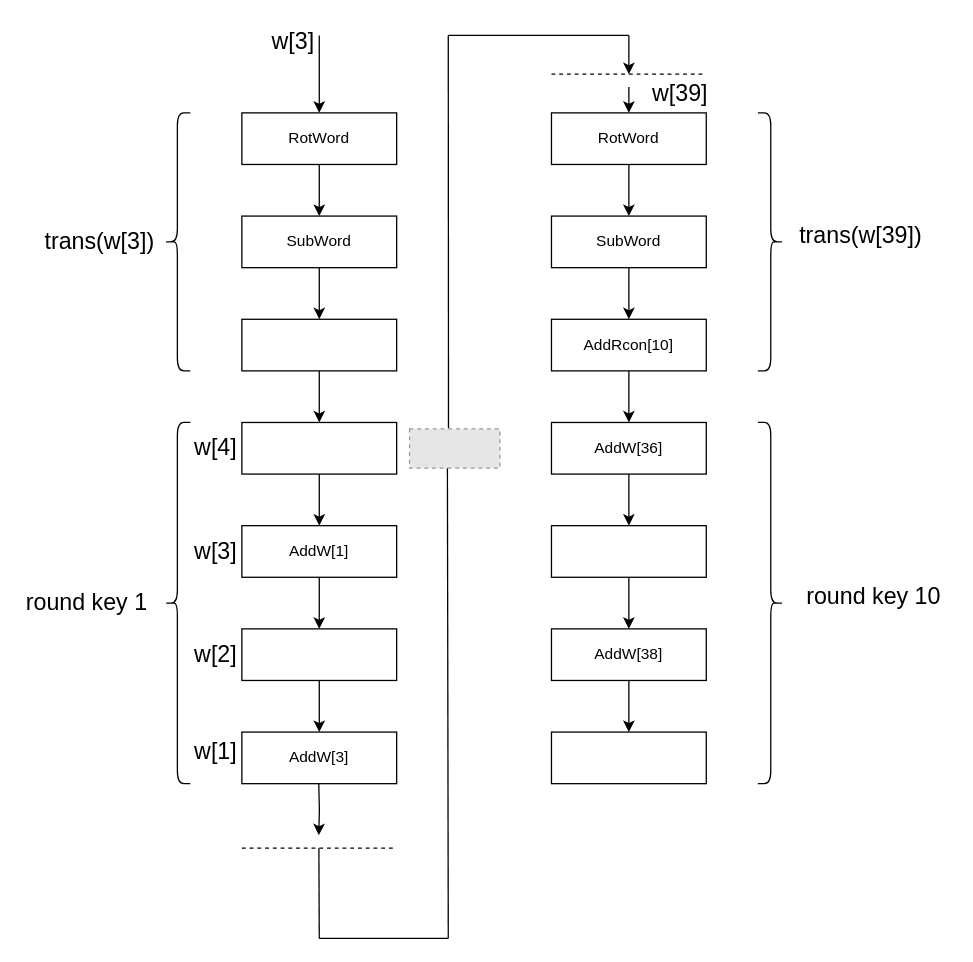
The diagram is 973 pixels wide and 962 high, and some of its shapes have lost their labels. Grey dashed boxes stand in for pictures. Here are the shapes that lost their labels. From the top down, the box of each, then its label:
(241, 318, 397, 371): AddRcon[1]
(241, 421, 397, 474): AddW[0]
(550, 524, 706, 577): AddW[37]
(241, 628, 397, 680): AddW[2]
(550, 731, 706, 784): AddW[39]
